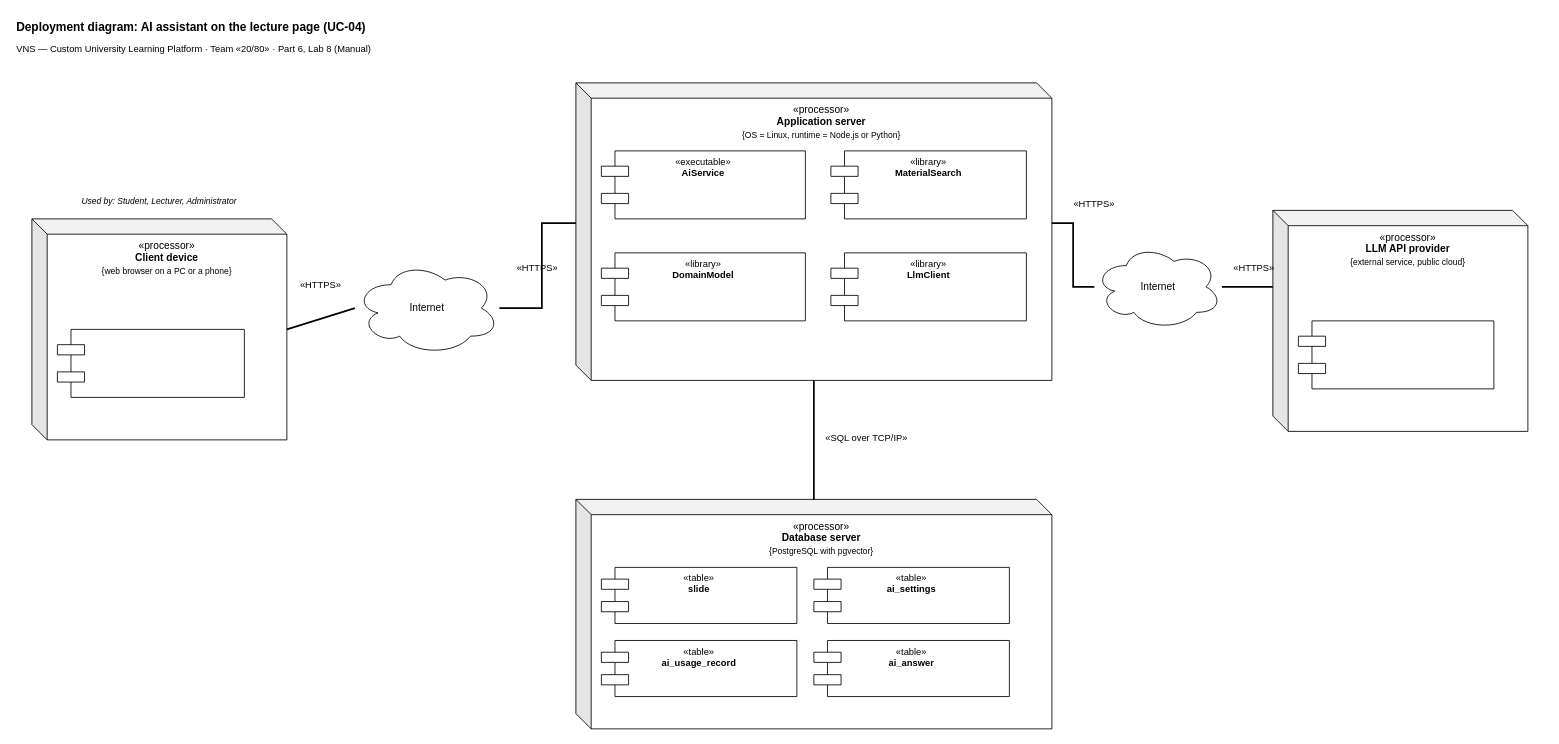
The diagram is 1559 pixels wide and 744 high, and some of its shapes have lost their labels. The shapes that lost their labels are listed below. From the top down, each one's centre as x and y in pixels, then its label:
the point at 150,363: «executable» LectureUi
the point at 1396,354: «external system» LLM API
